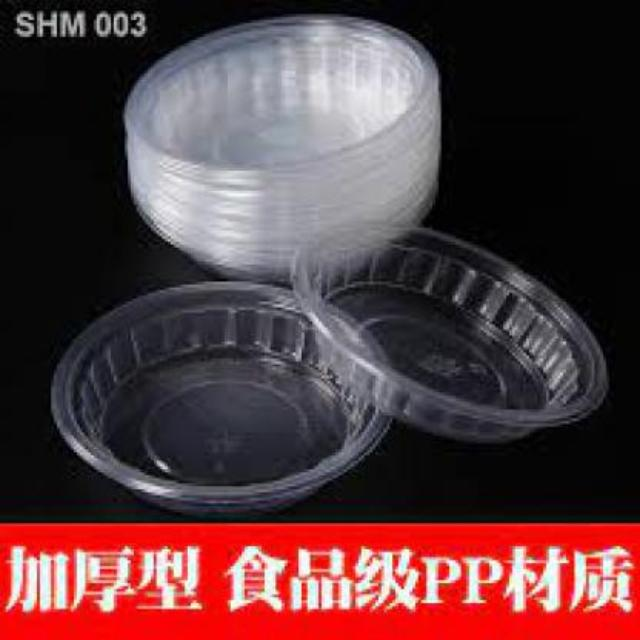plastic_box: (52, 282, 390, 508), (290, 222, 608, 448)
